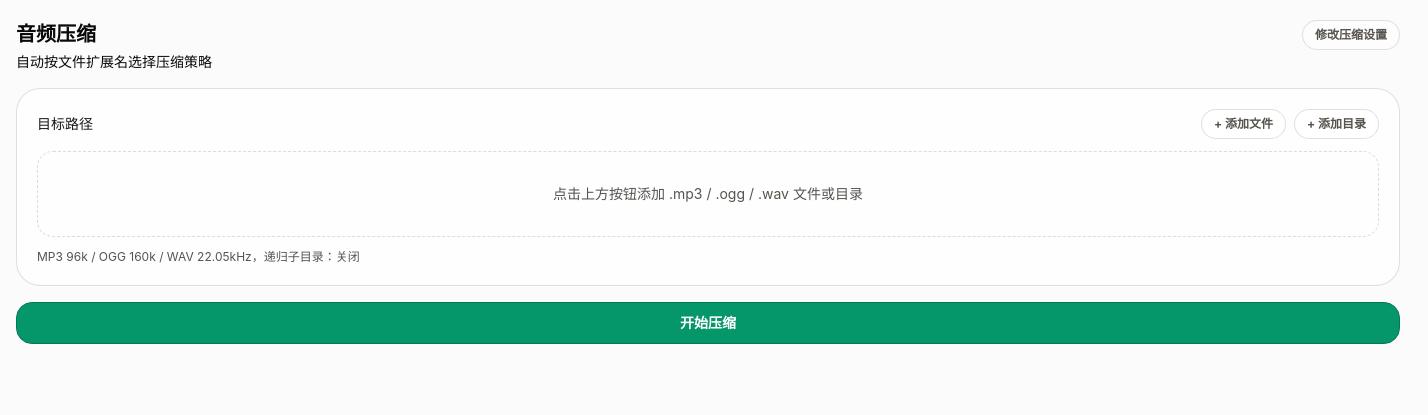
it: AudioTool › clears paths only after a fully successful task
Step 1. Click the button "+ 添加文件" → (1244, 124), box left=1201, top=109, right=1286, bottom=139
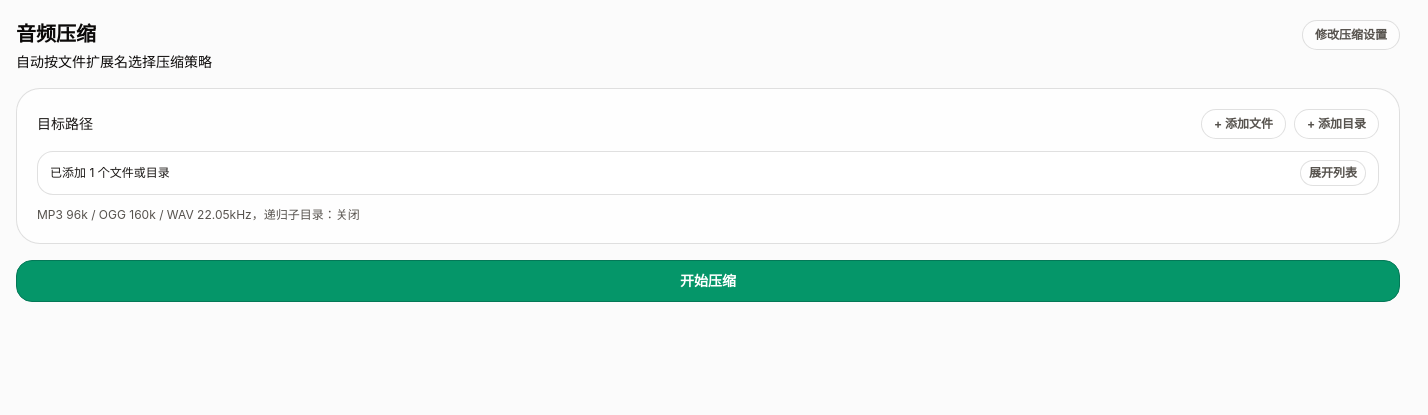
Expected: the text "已添加 1 个文件或目录" is shown, left=50, top=165, right=170, bottom=181
Step 2. Click the button "开始压缩" → (708, 281), box left=16, top=260, right=1400, bottom=302
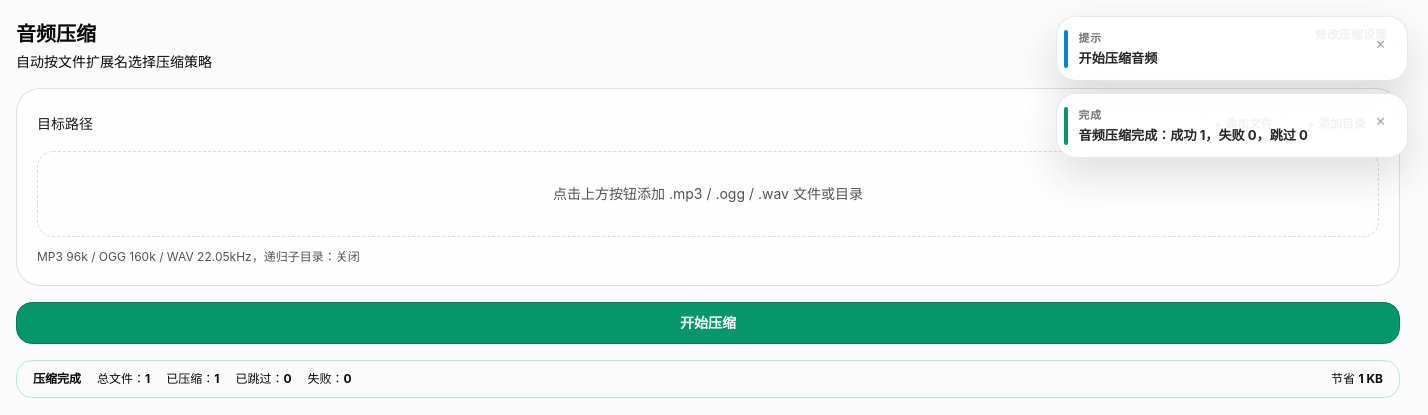
Expected: the text "点击上方按钮添加 .mp3 / .ogg / .wav 文件或目录" is shown, left=37, top=151, right=1379, bottom=237
